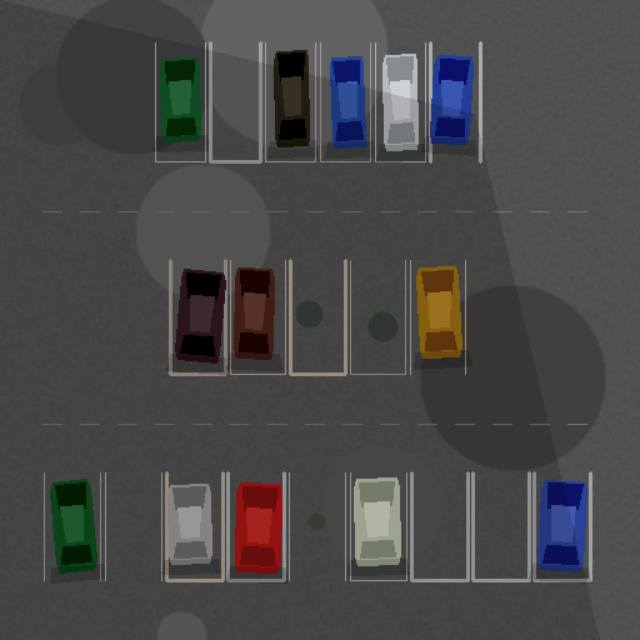space-empty: (290, 260, 345, 374), (350, 260, 405, 374), (105, 473, 161, 580), (289, 473, 345, 580), (411, 473, 467, 580), (473, 473, 529, 580), (210, 43, 260, 161)
space-occupied: (170, 260, 225, 374), (230, 260, 285, 374), (410, 260, 465, 374), (166, 473, 223, 580), (227, 473, 284, 580), (44, 473, 100, 580), (350, 473, 406, 580), (534, 473, 590, 580), (155, 43, 205, 161), (265, 43, 315, 161), (320, 43, 370, 161), (375, 43, 425, 161), (430, 43, 480, 161)
